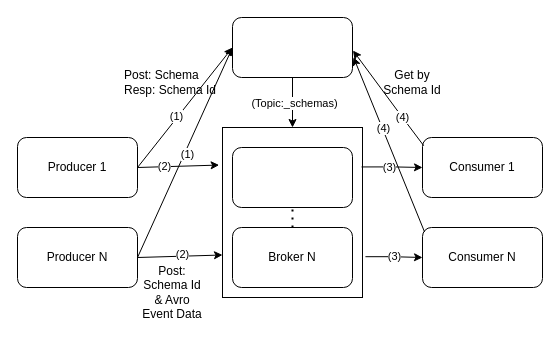
The diagram is 560 pixels wide and 339 high, and some of its shapes have lost their labels. Here are the shapes that lost their labels. From the top down, the box of each, then its label:
(232, 16, 352, 78): Schema Registry
(232, 146, 352, 208): Broker 1
(222, 126, 362, 298): Kafka
